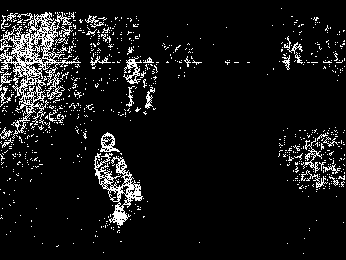person: (92, 131, 144, 226)
